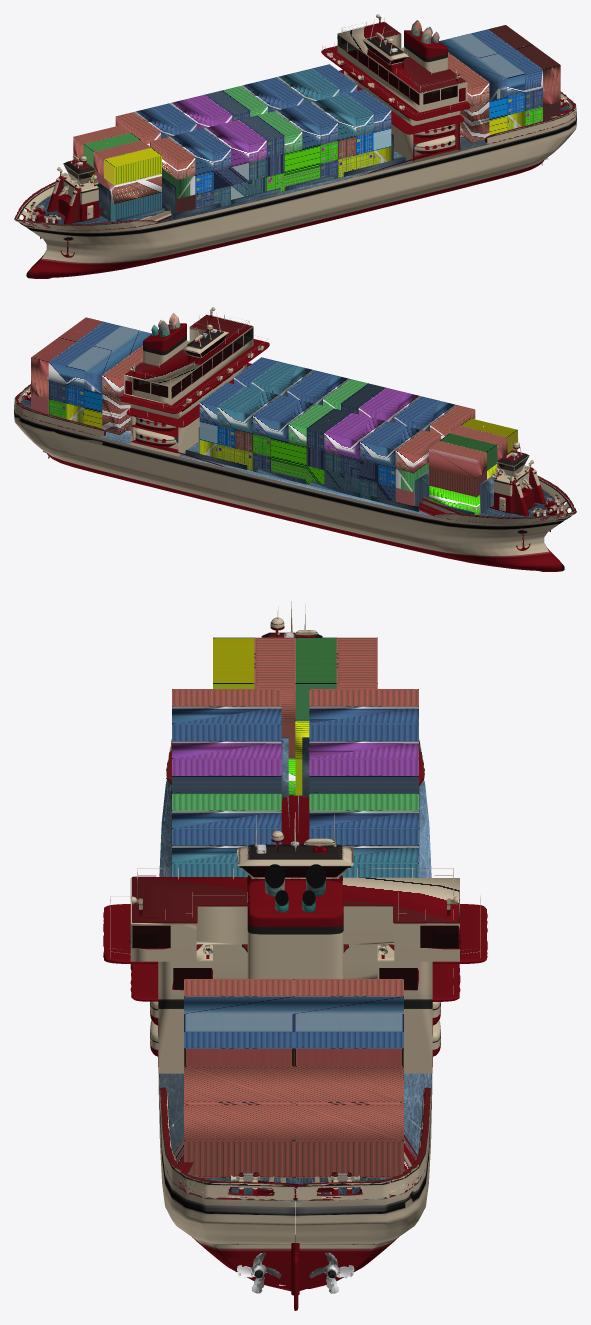
Rendered from cargo-ship-02.glb.
3 views of the same model, one above another, from view 1: azimuth 30°, elevation 25°; view 2: azimuth 150°, elevation 25°; view 3: azimuth 270°, elevation 25° (orthographic). The views are drawn at different scales.
Parts seen in each view (by area): view 1: Object_19, Object_13, Object_32, Object_10, Object_12, Object_9, Object_16, Object_11, Object_40, Object_8, Object_37, Object_14 (+6 smaller); view 2: Object_19, Object_13, Object_32, Object_10, Object_12, Object_8, Object_16, Object_40, Object_11, Object_9, Object_37, Object_14 (+5 smaller); view 3: Object_32, Object_10, Object_13, Object_19, Object_16, Object_40, Object_11, Object_12, Object_36, Object_35, Object_37, Object_9 (+3 smaller).
Boxes of the visible parts, x1,y1,x2,y2 form: Object_19: (25, 112, 576, 278); Object_13: (134, 29, 542, 208); Object_32: (23, 22, 576, 227); Object_10: (73, 25, 560, 212); Object_12: (110, 68, 373, 221); Object_9: (88, 111, 524, 185); Object_16: (170, 94, 266, 166); Object_11: (83, 86, 302, 198); Object_40: (27, 102, 576, 230); Object_8: (266, 107, 542, 192); Object_37: (64, 35, 457, 179); Object_14: (195, 92, 524, 194); Object_19: (14, 405, 565, 571); Object_13: (48, 322, 456, 501); Object_32: (14, 314, 571, 523); Object_10: (31, 317, 517, 505); Object_12: (217, 361, 377, 499); Object_8: (48, 399, 479, 514); Object_16: (324, 387, 421, 459); Object_40: (14, 395, 563, 523); Object_11: (288, 379, 497, 491); Object_9: (66, 403, 517, 478); Object_37: (133, 328, 528, 471); Object_14: (66, 385, 395, 487); Object_32: (103, 601, 487, 1310); Object_10: (172, 637, 418, 1177); Object_13: (172, 706, 418, 1048); Object_19: (150, 1001, 440, 1291); Object_16: (172, 741, 418, 775); Object_40: (159, 737, 431, 1201); Object_11: (172, 637, 418, 810); Object_12: (172, 845, 418, 877); Object_36: (130, 844, 460, 957); Object_35: (160, 740, 430, 1200); Object_37: (132, 866, 458, 1038); Object_9: (213, 637, 309, 795).
Bounding box in the file's own units: 9.12 × 2.74 × 2.8.
Materials: 29 (28 with a texture image).
